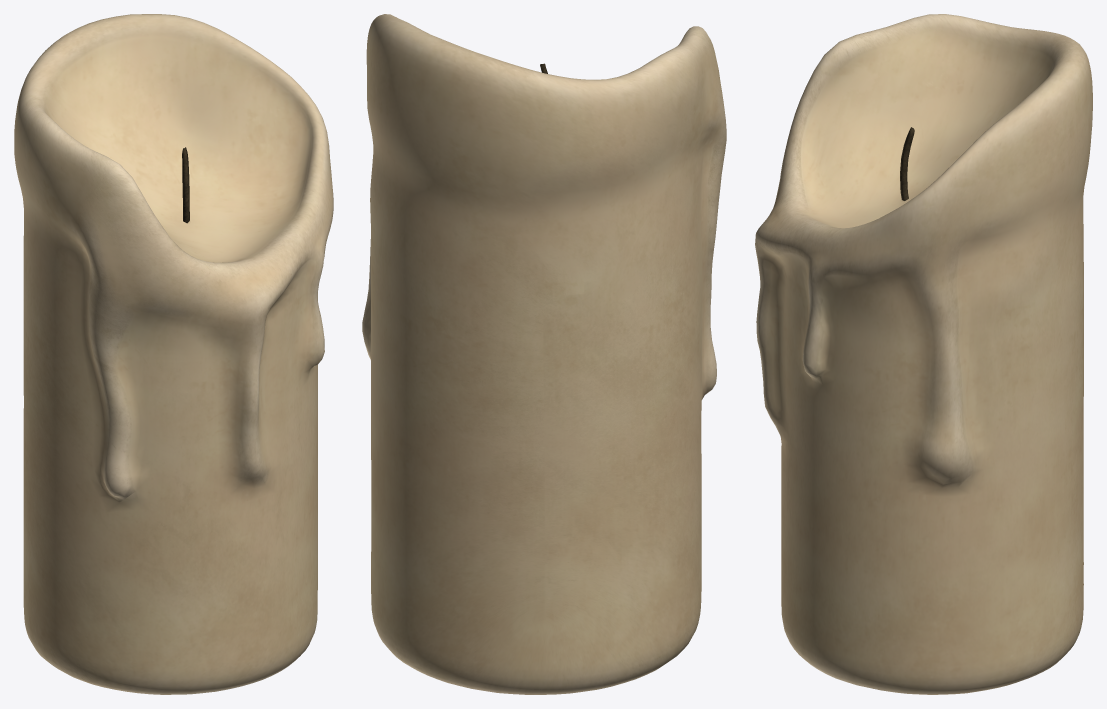
The model's file is Candle1.fbx.
3 renders of one model, left to right at view 1: azimuth 30°, elevation 25°; view 2: azimuth 150°, elevation 25°; view 3: azimuth 270°, elevation 25°, orthographic. The views are drawn at different scales.
Parts seen in each view (by area): view 1: Candle_Low; view 2: Candle_Low; view 3: Candle_Low.
Part boxes in pixels (box(x1,y1,x2,y2)): Candle_Low: box(14, 14, 333, 694); Candle_Low: box(362, 14, 726, 694); Candle_Low: box(755, 14, 1092, 694).
Size of the model in its own units: 19.08 by 36.69 by 19.13.
